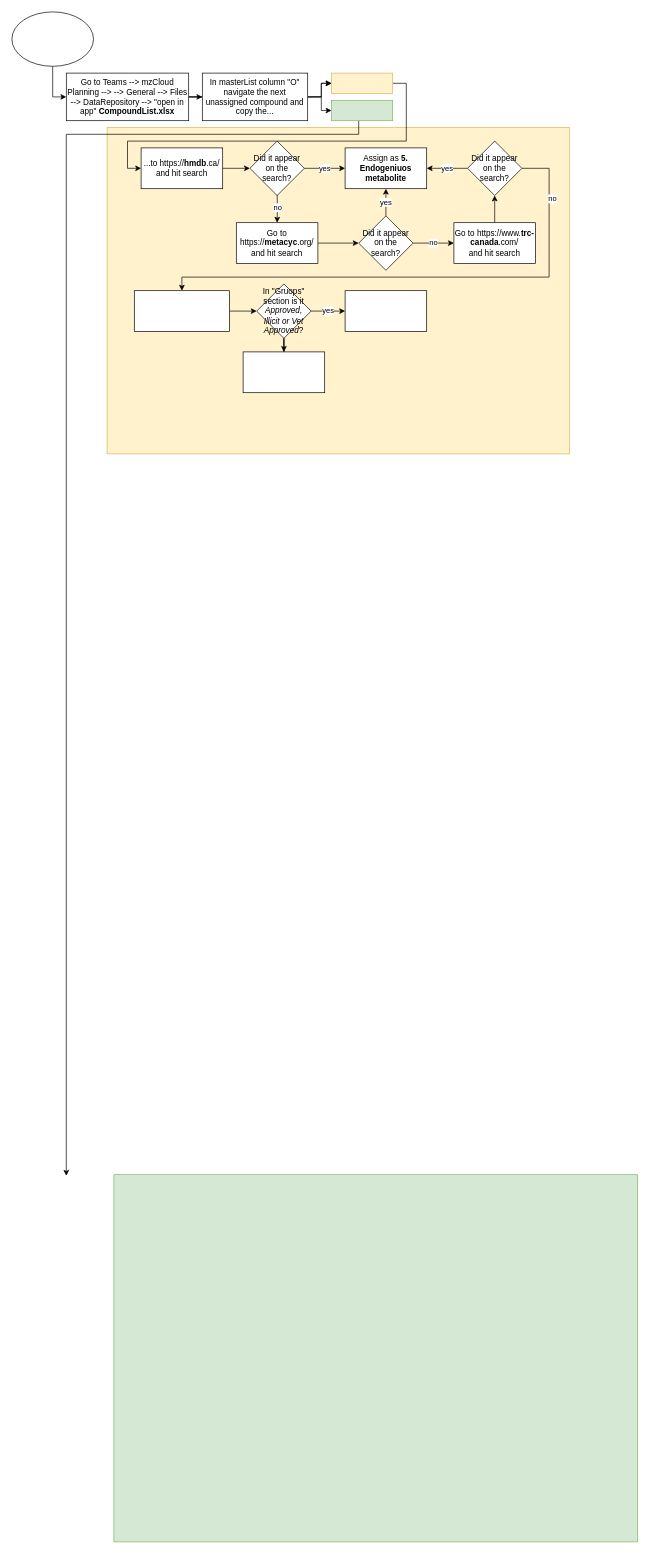
Image size: 649x1554. Some labels were removed from this diagram. Here are the shapes that lost their labels. From the top down, the centre of each, then its label:
the point at 52,38: Unassigned class to compound
the point at 362,83: ...Name value...
the point at 362,110: ...InChi...
the point at 182,311: Go to https://go. drugbank .com/ and hit search
the point at 385,311: Assign as 1 . Therapeutics/ Prescription Drugs
